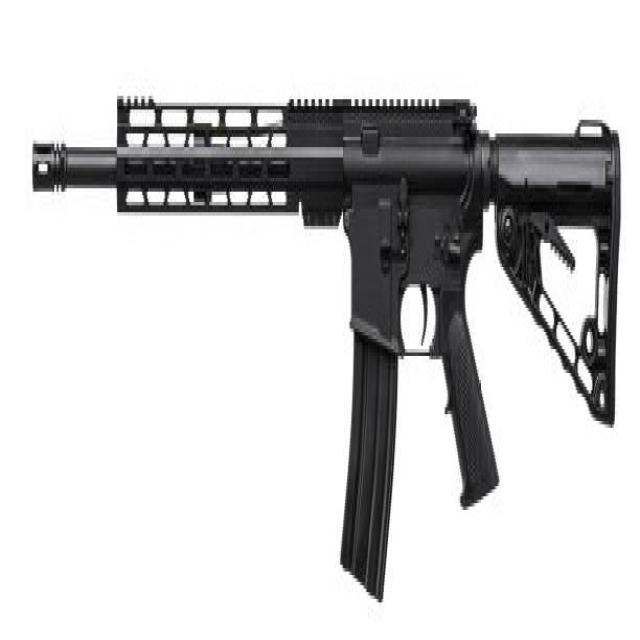rifle: (27, 77, 630, 608)
